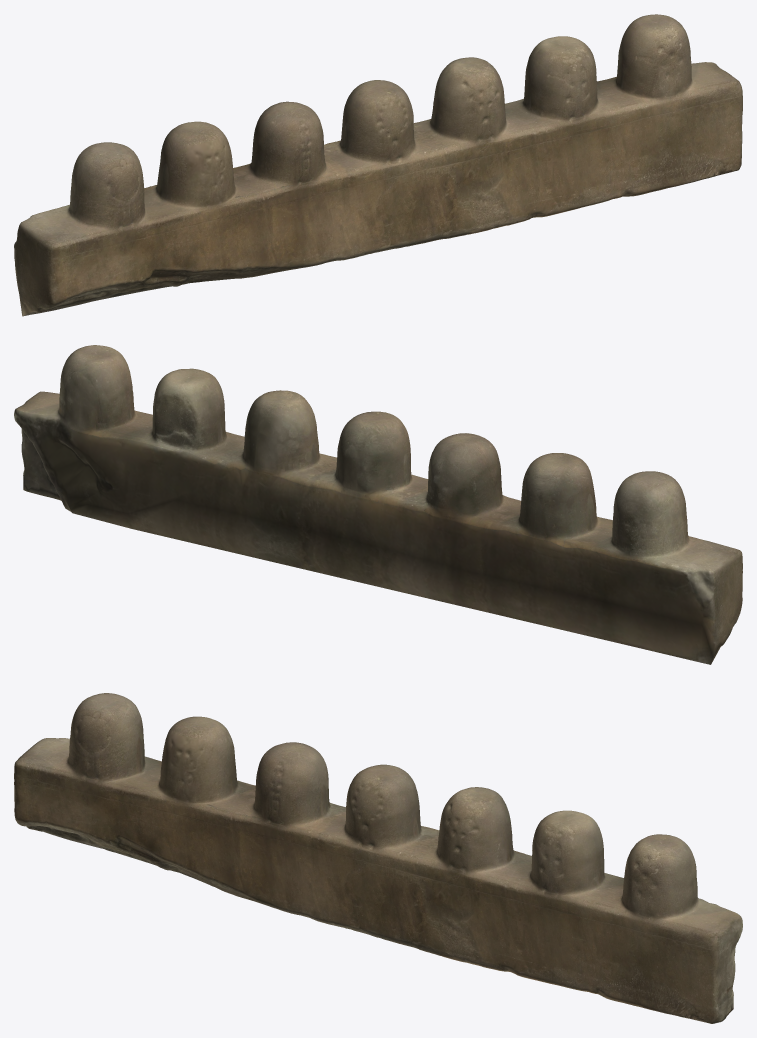
File: 7_nhóm 7 linga_final.glb
The picture shows the model from 3 angles, top to bottom: view 1: azimuth 30°, elevation 25°; view 2: azimuth 150°, elevation 25°; view 3: azimuth 330°, elevation 25°; orthographic projection.
Size of the model in its own units: 2.41 by 0.5334 by 0.24.
Materials: 1 (1 with a texture image).
